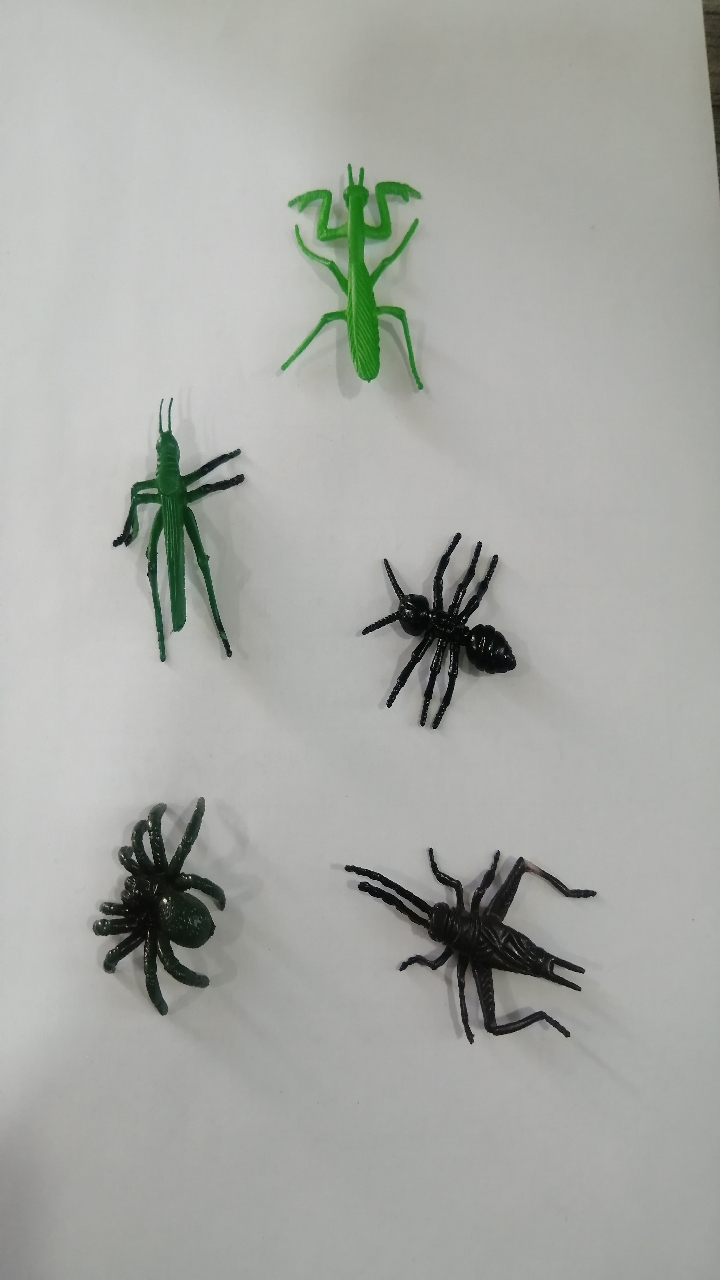intruso: (338, 799, 640, 1102), (63, 355, 300, 706), (244, 129, 468, 417), (340, 469, 544, 757), (54, 765, 263, 1034)
